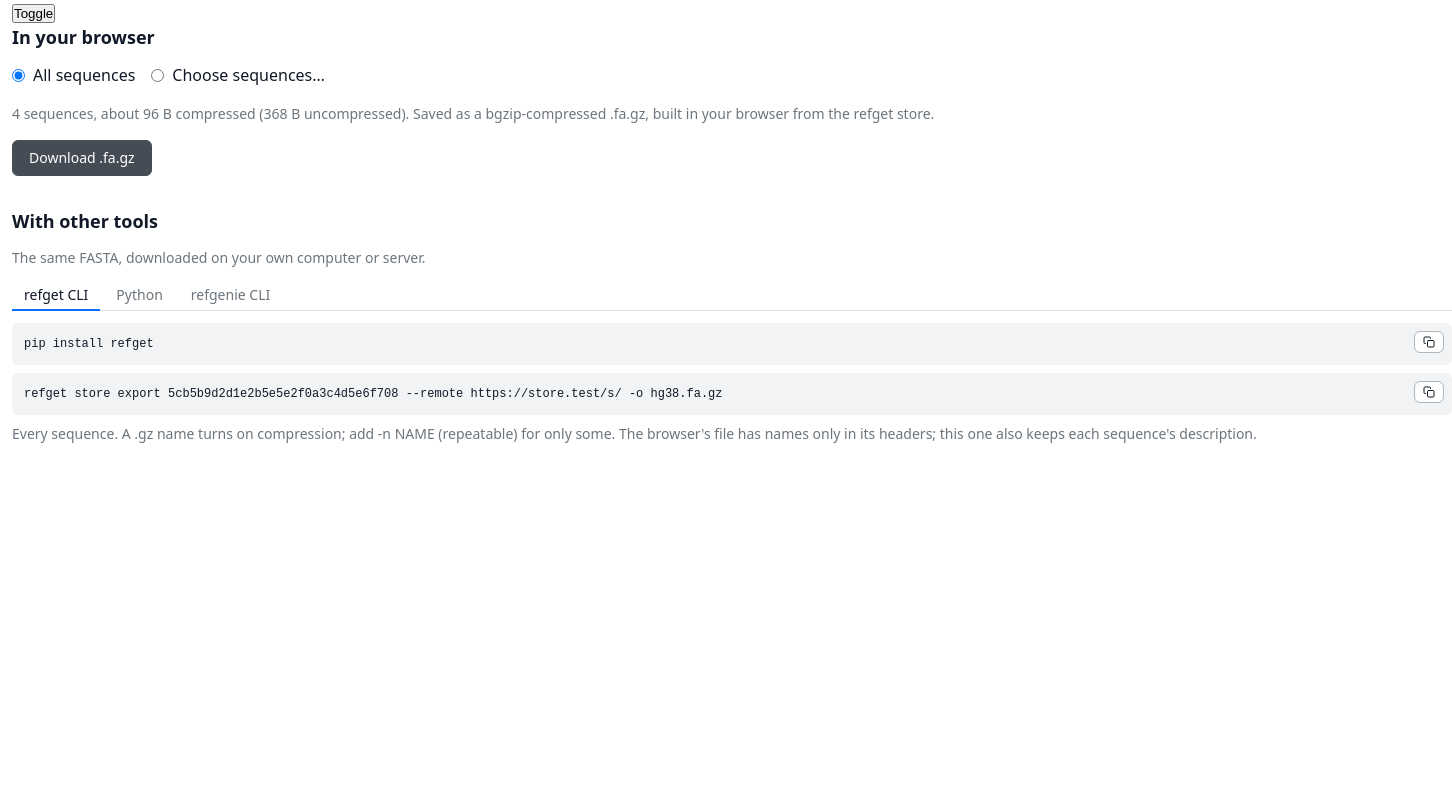
Test: Download tab › exports only the chosen sequences, and the CLI command names them
The image size is (1452, 810).
Expected: the text "4 sequences" is shown, 12,104 -> 413,123
Click the radio button labelled "Choose sequences…" at (158, 75), box 151,68 -> 164,82
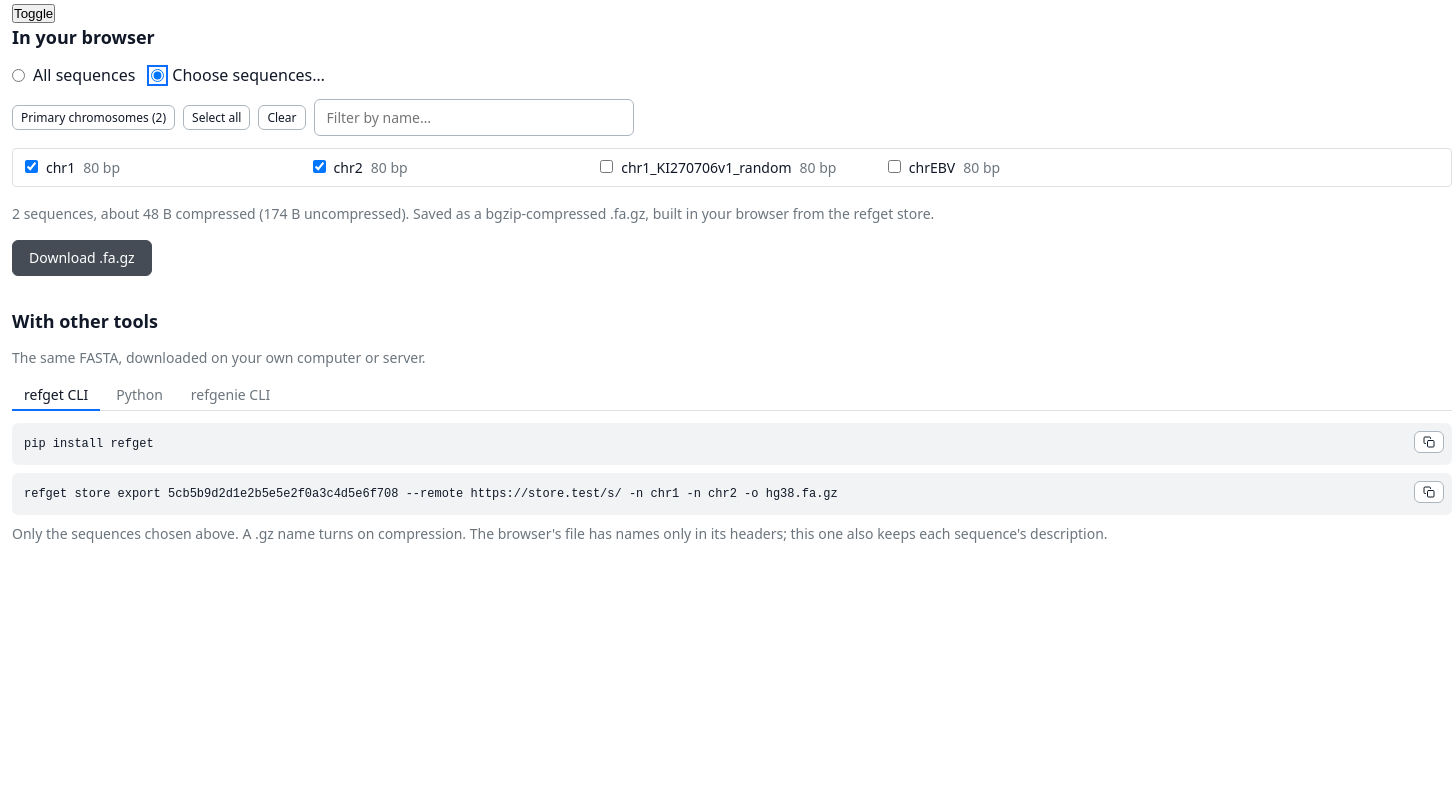
Now the checkbox labelled "chr1 80 bp" is checked, box 25,160 -> 38,173
Now the checkbox labelled "chrEBV 80 bp" is not checked, box 888,160 -> 901,173
Now the text "2 sequences" is shown, box 12,204 -> 413,223
Click the checkbox labelled "chr2 80 bp" at (319, 166), box 313,160 -> 326,173
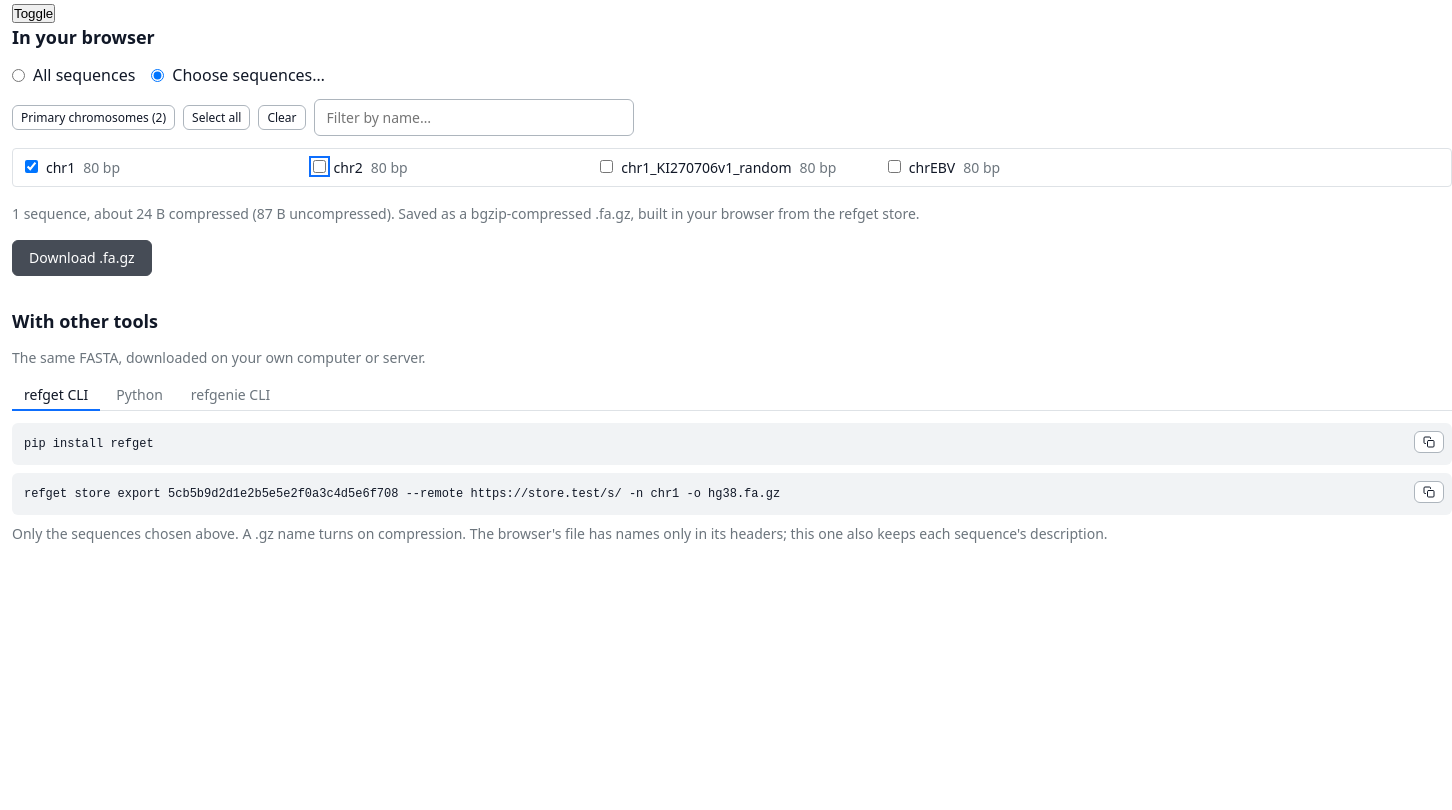
Now the text "1 sequence," is shown, box 12,204 -> 398,223
Click the tab "Python" at (140, 395), box 104,380 -> 175,410
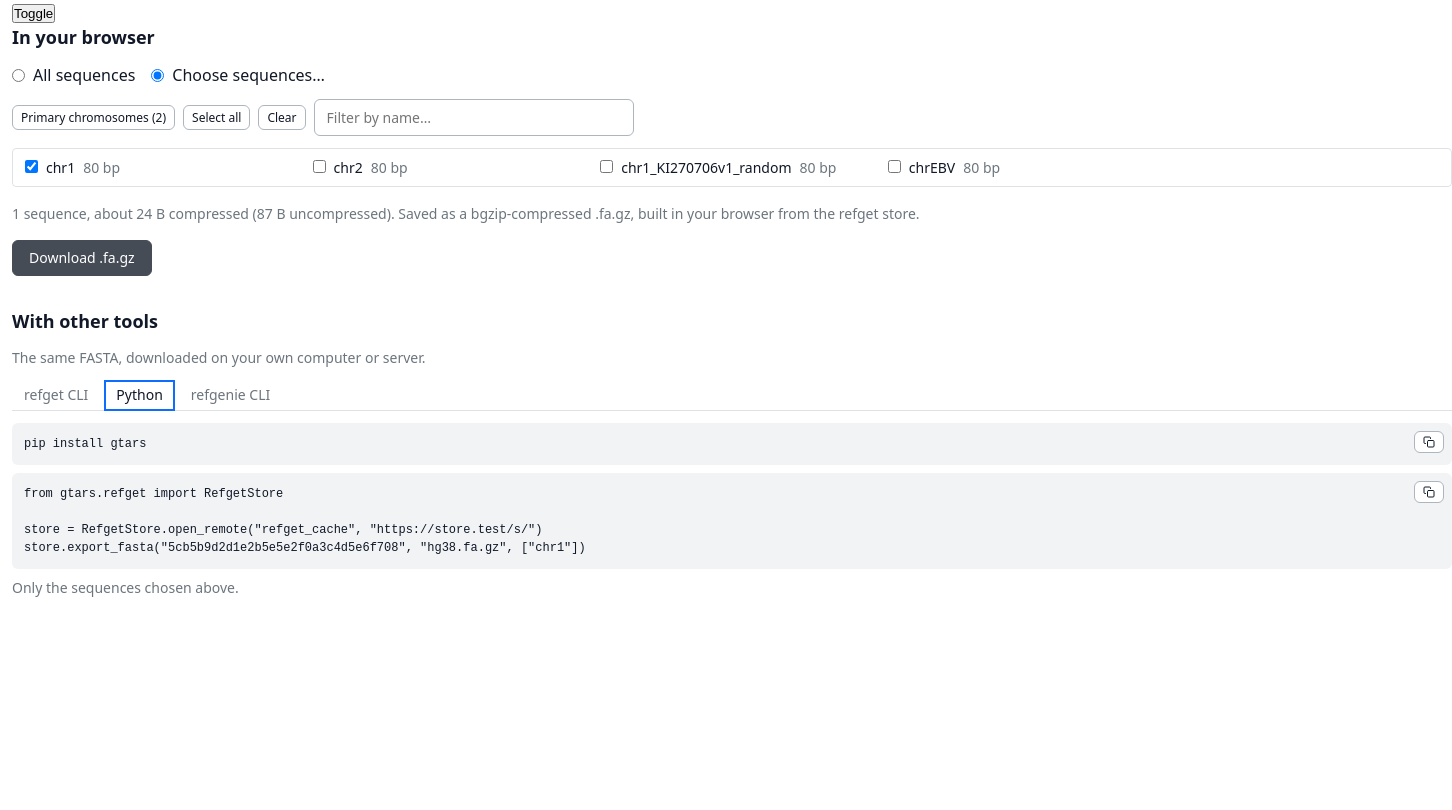
Click the button "Download .fa.gz" at (82, 258), box 12,240 -> 152,276
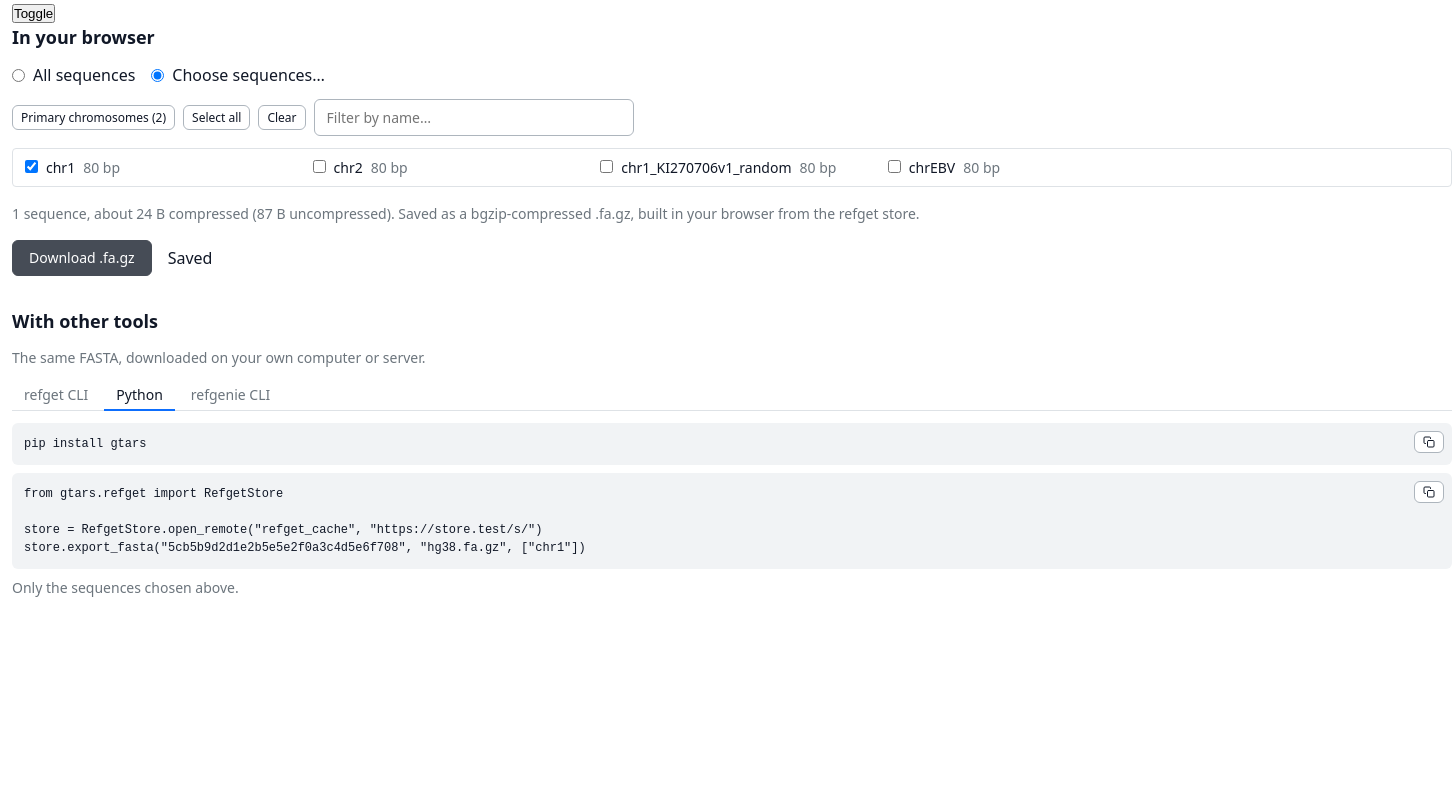
Now the text "Saved" is shown, box 168,246 -> 212,270
